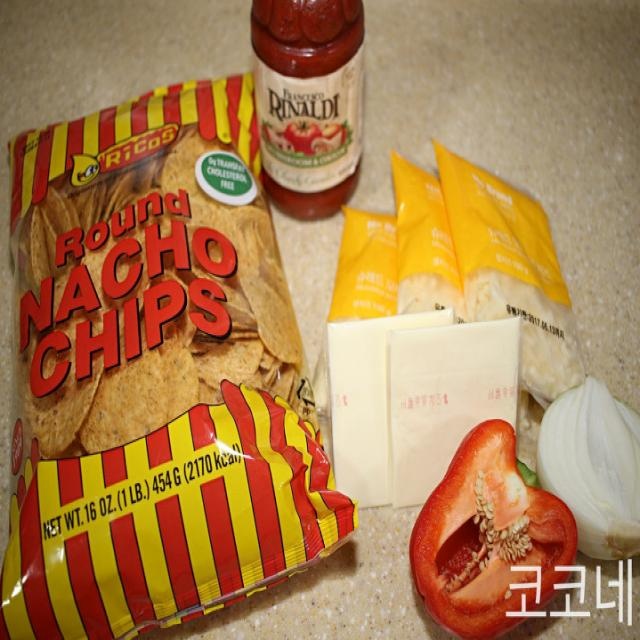cheese: (339, 186, 557, 313), (324, 316, 518, 418)
ketchup: (250, 1, 363, 199)
nacho_chips: (11, 118, 308, 590)
onion: (536, 374, 640, 559)
pimento: (408, 425, 578, 633)
